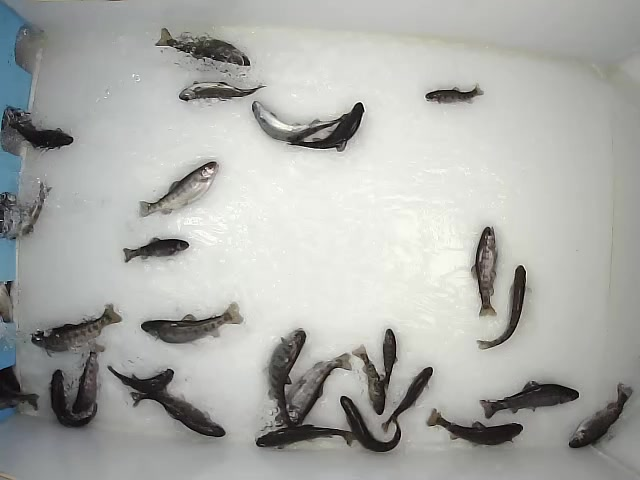fish: (282, 349, 353, 427), (29, 302, 124, 358), (566, 378, 639, 450), (136, 160, 221, 221), (473, 264, 531, 352), (139, 298, 244, 346), (126, 392, 227, 439), (250, 99, 349, 144), (283, 98, 365, 151), (152, 26, 252, 69), (476, 376, 579, 417), (263, 328, 306, 426), (379, 363, 437, 432), (426, 407, 526, 447), (339, 396, 403, 453), (45, 367, 100, 428), (469, 225, 502, 320), (68, 338, 107, 417), (252, 421, 354, 451), (6, 179, 55, 239), (176, 79, 267, 106), (121, 234, 191, 269), (105, 364, 175, 394), (8, 119, 74, 150), (424, 81, 484, 106)
